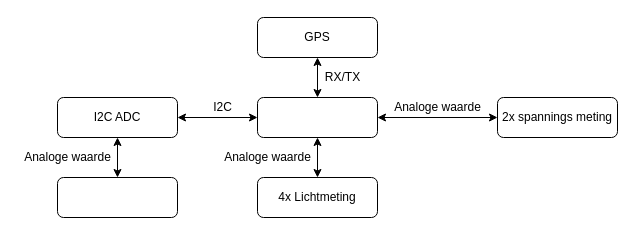
Image size: 635x235. Some labels were removed from this diagram. Here are the shapes that lost their labels. From the top down, the centre of each, then its label:
At pixel 317 117: "MKR WAN 1300".
At pixel 117 197: "3x stroom meting".
